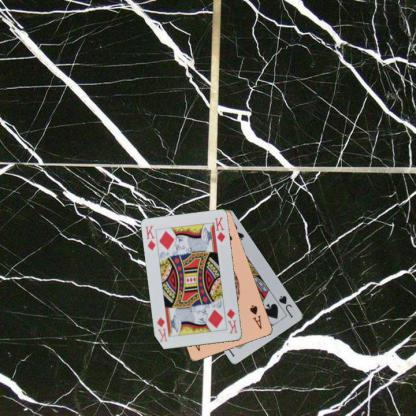As: (247, 302, 264, 331)
Js: (276, 293, 295, 319)
Kd: (143, 223, 160, 253), (224, 306, 239, 335)
